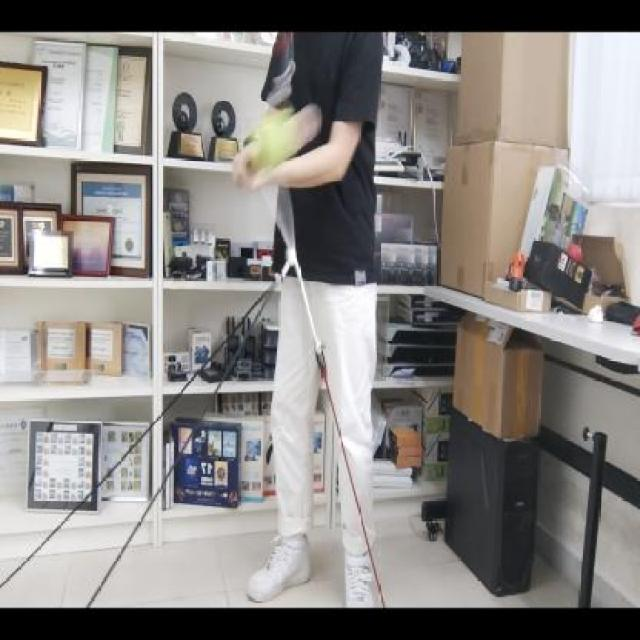baseball: (248, 99, 302, 173)
